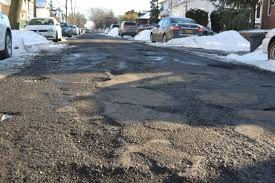pothole: (45, 165, 182, 183), (67, 130, 119, 163), (96, 65, 172, 87), (106, 88, 180, 106), (110, 101, 168, 121), (52, 99, 109, 117), (200, 90, 255, 104), (87, 115, 120, 129), (236, 122, 263, 138), (127, 151, 151, 163), (1, 108, 19, 122), (18, 76, 48, 84)
